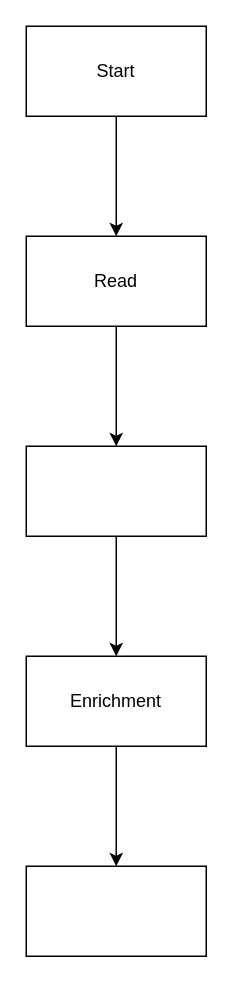
Image size: 233x983. Some labels were removed from this diagram. The shapes that lost their labels are listed below. From the top down, each one's centre as x and y in pixels, then its label:
At [115,490]: "Time based aggregation".
At [115,910]: "End".
